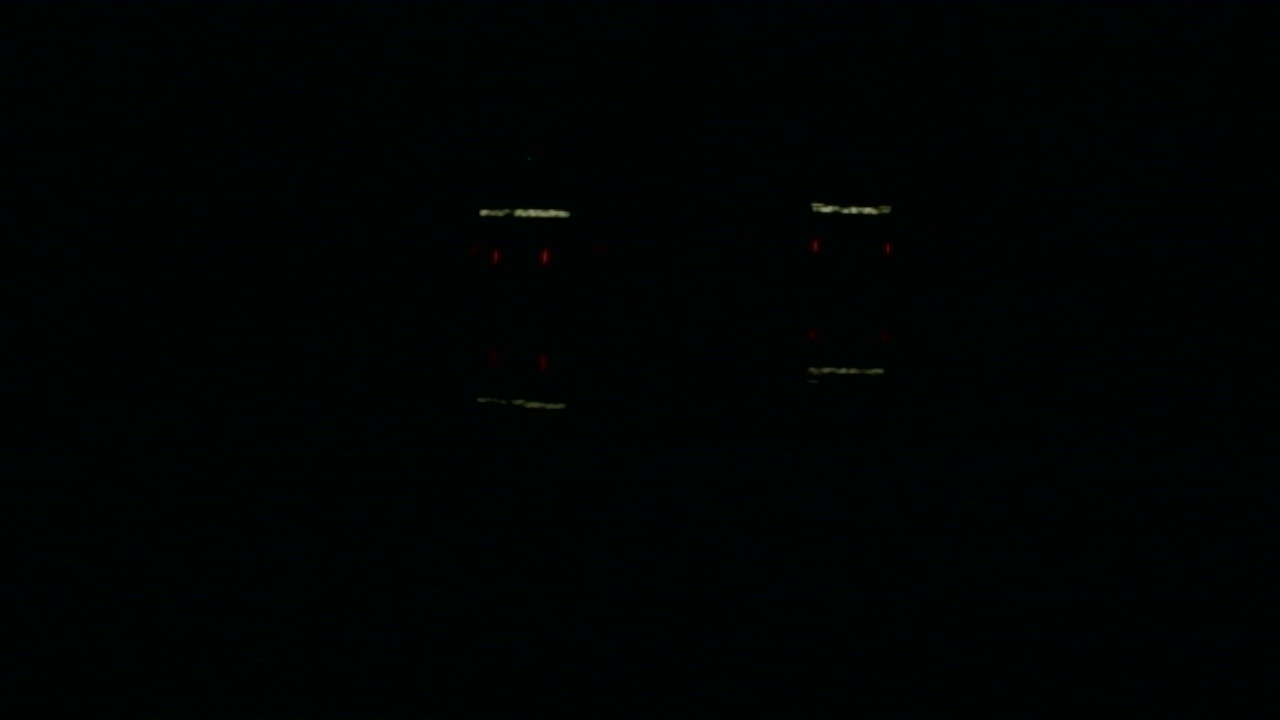lamp: (808, 236, 819, 257), (886, 236, 892, 256), (493, 249, 499, 264), (542, 249, 549, 261)
pair1: (494, 250, 547, 261)
pair2: (808, 238, 894, 258)
